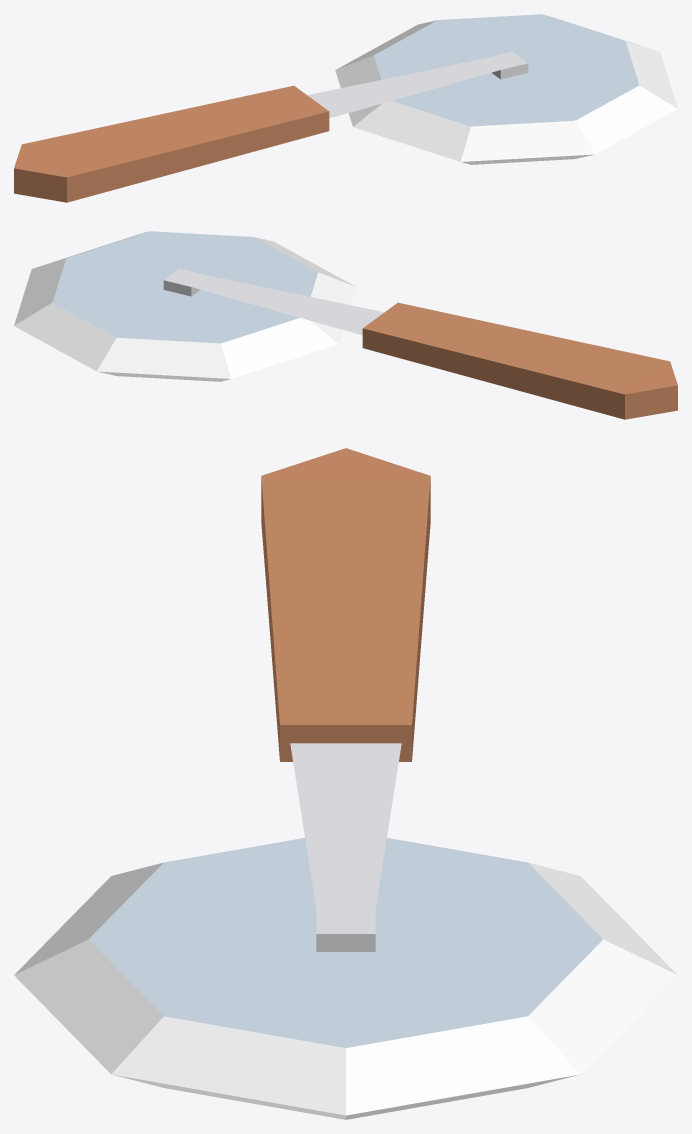
Rendered from pizzaCutter.obj.
3 views of the same model, one above another, from view 1: azimuth 30°, elevation 25°; view 2: azimuth 150°, elevation 25°; view 3: azimuth 270°, elevation 25° (orthographic). The views are drawn at different scales.
Parts seen in each view (by area): view 1: pizzaCutter; view 2: pizzaCutter; view 3: pizzaCutter.
Part boxes in pixels (x1,y1,x2,y2): pizzaCutter: [14, 14, 677, 202]; pizzaCutter: [14, 231, 677, 419]; pizzaCutter: [14, 448, 677, 1119].
Bounding box in the file's own units: 0.536 × 0.0556 × 0.2549.
